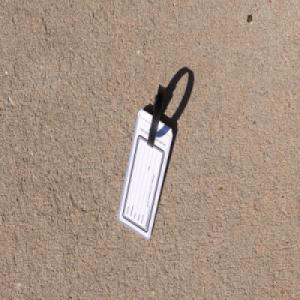LuggageTag: (116, 81, 174, 241)
